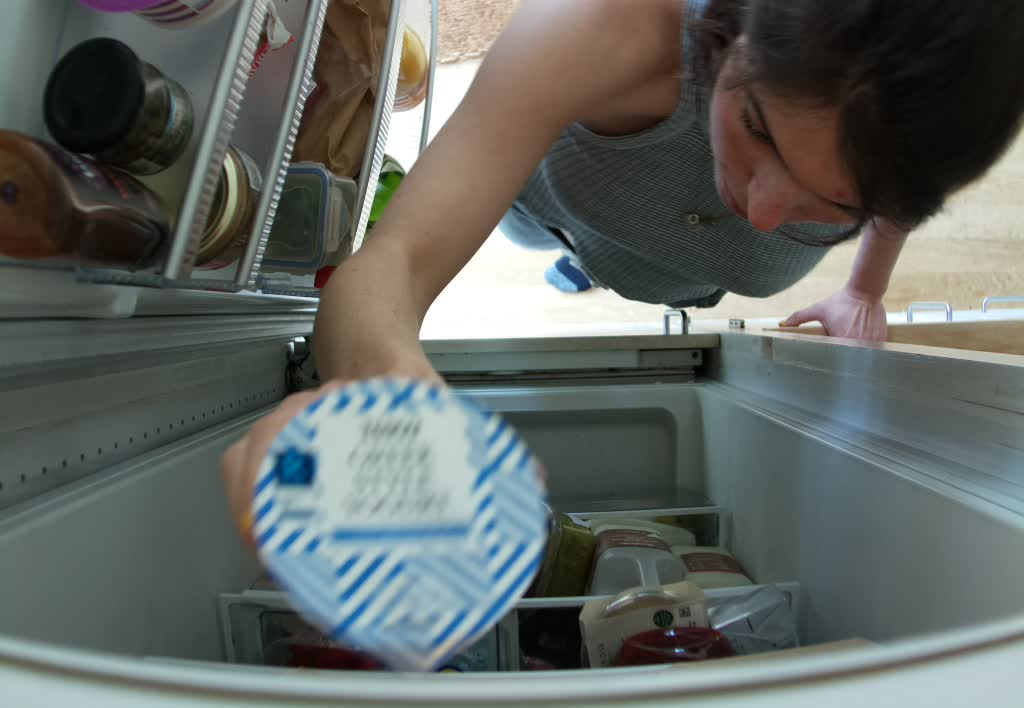yogurt: (247, 375, 549, 673)
